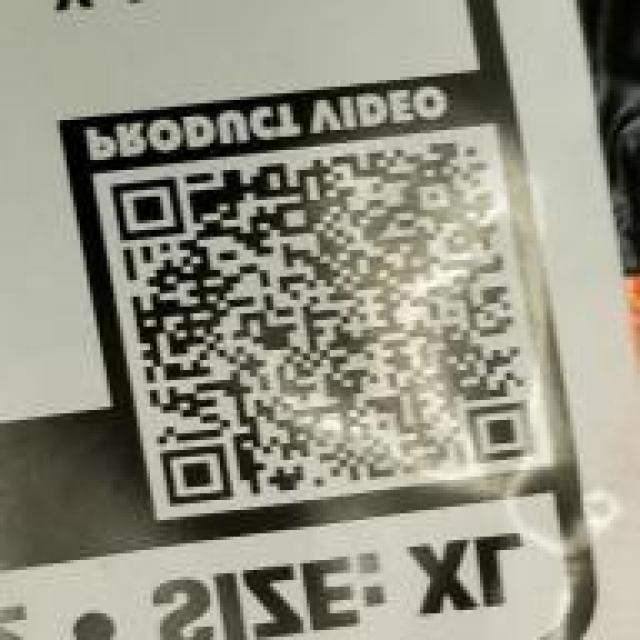qr_code: (111, 142, 535, 506)
